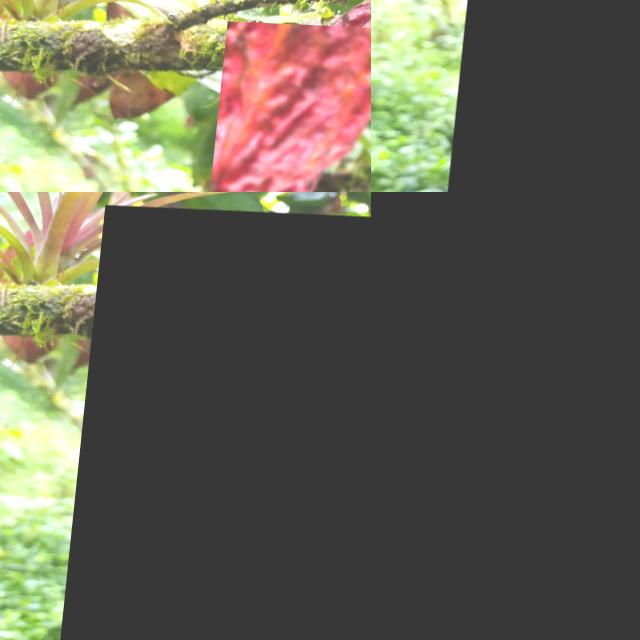Monilia: (215, 18, 371, 192)
Sana: (59, 204, 371, 640), (371, 192, 640, 640), (453, 0, 640, 192)
